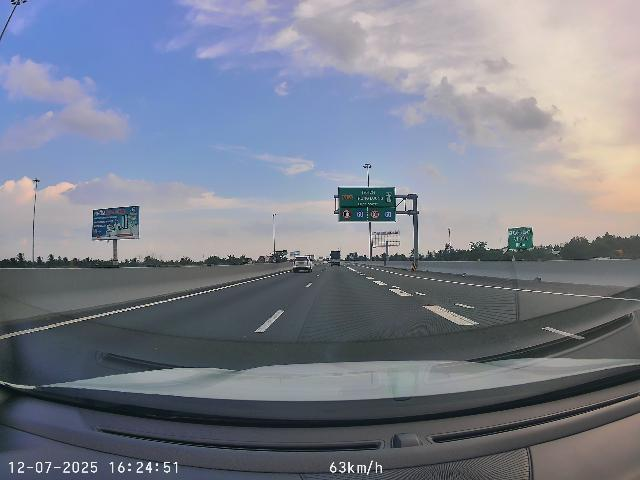127-toc-do-toi-da-100: (370, 209, 381, 220), (341, 209, 352, 219)
306-toc-do-toi-thieu-60: (383, 209, 394, 220), (355, 209, 365, 219)
437-bat-dau-duong-cao-toc: (385, 192, 392, 203)
